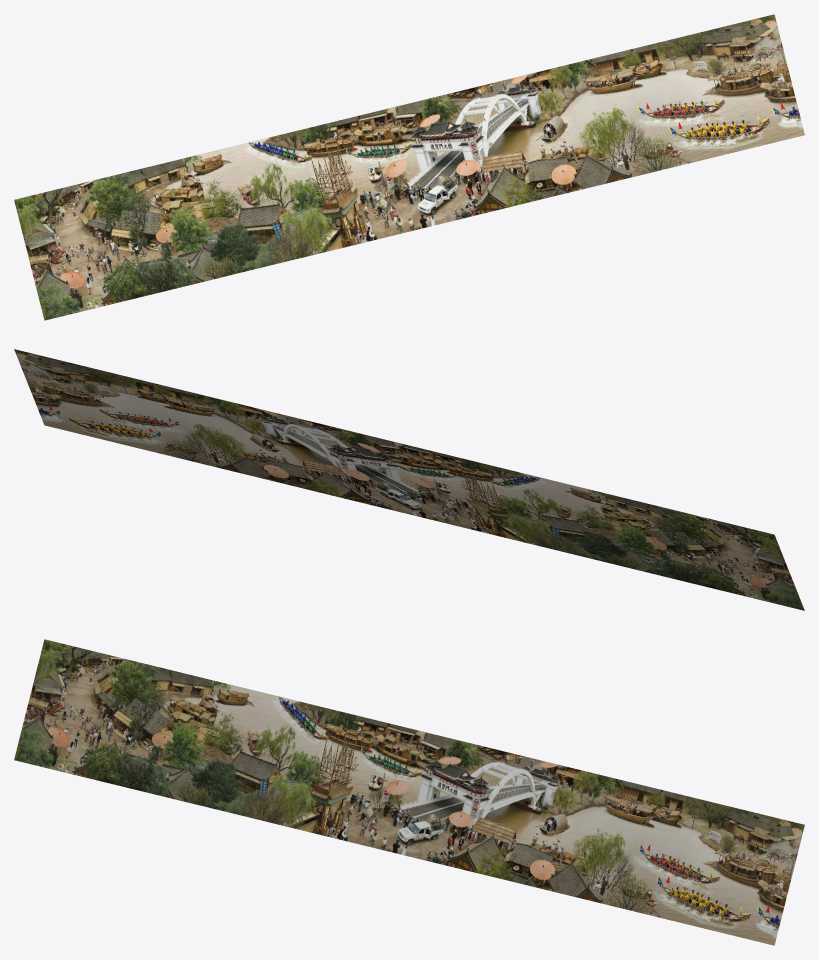
The picture shows the model from 3 angles, top to bottom: view 1: azimuth 30°, elevation 25°; view 2: azimuth 150°, elevation 25°; view 3: azimuth 330°, elevation 25°; orthographic projection.
Visible parts, largest first — view 1: 平面; view 2: 平面; view 3: 平面.
Part boxes in pixels (x1,y1,x2,y2): 平面: (14, 14, 804, 320); 平面: (14, 349, 804, 610); 平面: (14, 639, 804, 945).
Size of the model in its own units: 14.09 by 1.75 by 0.9763.
1 material, 1 textured.
